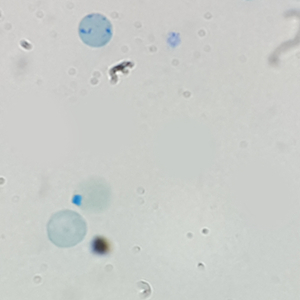aggregate reticulocyte: (76, 11, 115, 49)
erythrocyte: (70, 174, 116, 216)
punctate reticulocyte: (45, 208, 89, 250)
